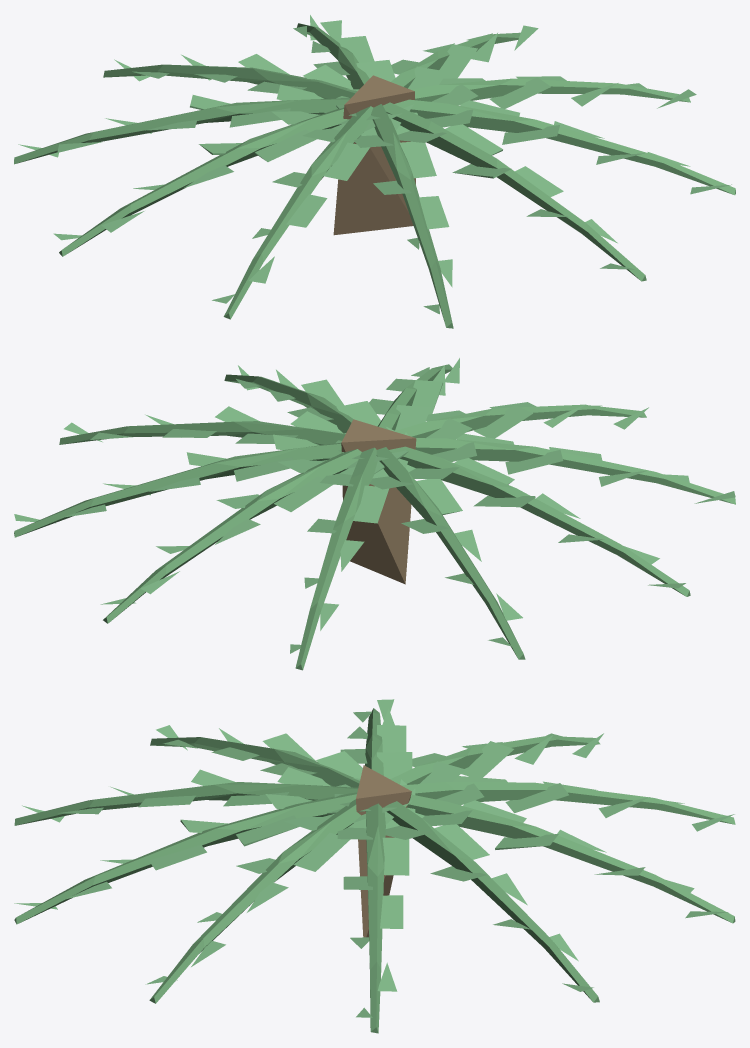
Rendered from 50-Vegetacion_helecho_gigante.glb.
3 renders of one model, top to bottom at view 1: azimuth 30°, elevation 25°; view 2: azimuth 150°, elevation 25°; view 3: azimuth 270°, elevation 25°, orthographic. The views are drawn at different scales.
Parts seen in each view (by area): view 1: SM_Helecho_M_Helecho_Tallo, SM_Helecho_M_Helecho_Hoja, SM_Helecho_M_Helecho_Tronco; view 2: SM_Helecho_M_Helecho_Tallo, SM_Helecho_M_Helecho_Hoja, SM_Helecho_M_Helecho_Tronco; view 3: SM_Helecho_M_Helecho_Tallo, SM_Helecho_M_Helecho_Hoja, SM_Helecho_M_Helecho_Tronco.
Boxes of the visible parts, bbox=[...] form: SM_Helecho_M_Helecho_Tallo: bbox=[14, 23, 735, 328]; SM_Helecho_M_Helecho_Hoja: bbox=[18, 15, 731, 314]; SM_Helecho_M_Helecho_Tronco: bbox=[333, 75, 415, 235]; SM_Helecho_M_Helecho_Tallo: bbox=[14, 364, 735, 670]; SM_Helecho_M_Helecho_Hoja: bbox=[14, 358, 735, 653]; SM_Helecho_M_Helecho_Tronco: bbox=[341, 419, 416, 584]; SM_Helecho_M_Helecho_Tallo: bbox=[14, 708, 735, 1033]; SM_Helecho_M_Helecho_Hoja: bbox=[14, 699, 734, 1017]; SM_Helecho_M_Helecho_Tronco: bbox=[356, 765, 411, 937].
Size of the model in its own units: 1.9 by 0.4 by 1.82.
